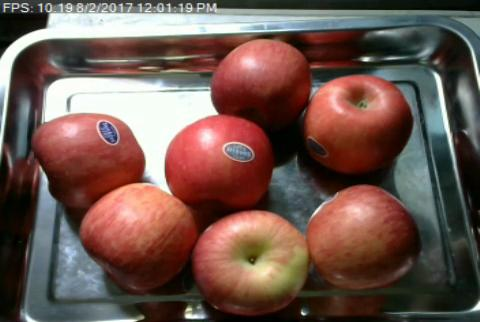apple: (79, 182, 199, 294), (193, 210, 310, 315), (307, 184, 420, 289), (31, 112, 146, 208), (303, 74, 412, 173), (164, 114, 273, 208), (210, 39, 311, 122)
